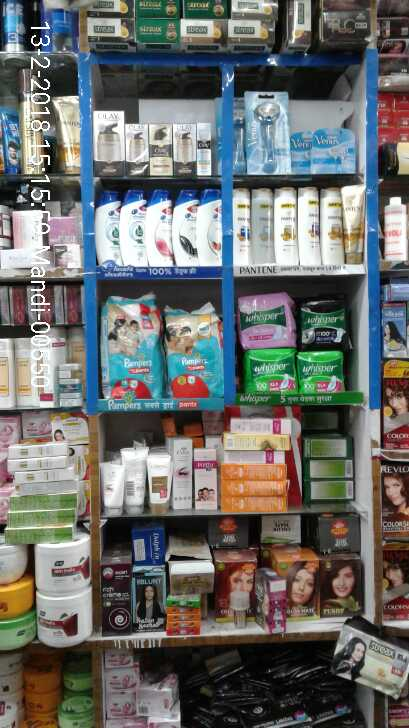venus: (253, 100, 286, 177), (311, 130, 357, 174), (286, 130, 310, 177)
